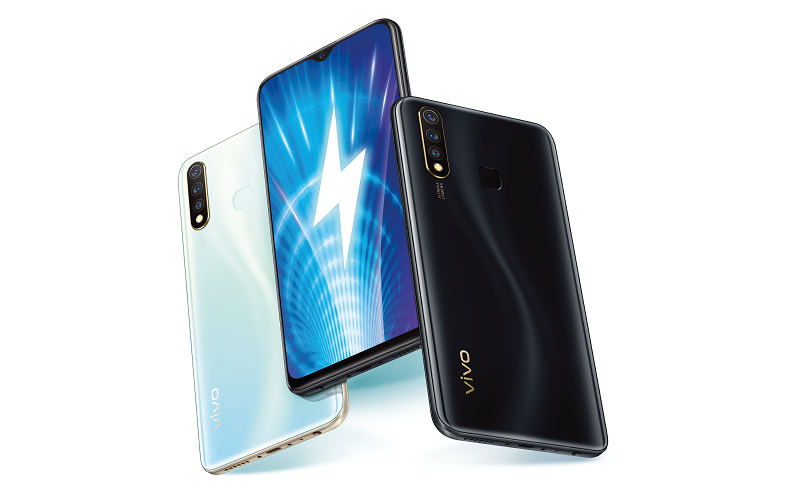phone: (390, 95, 624, 454)
